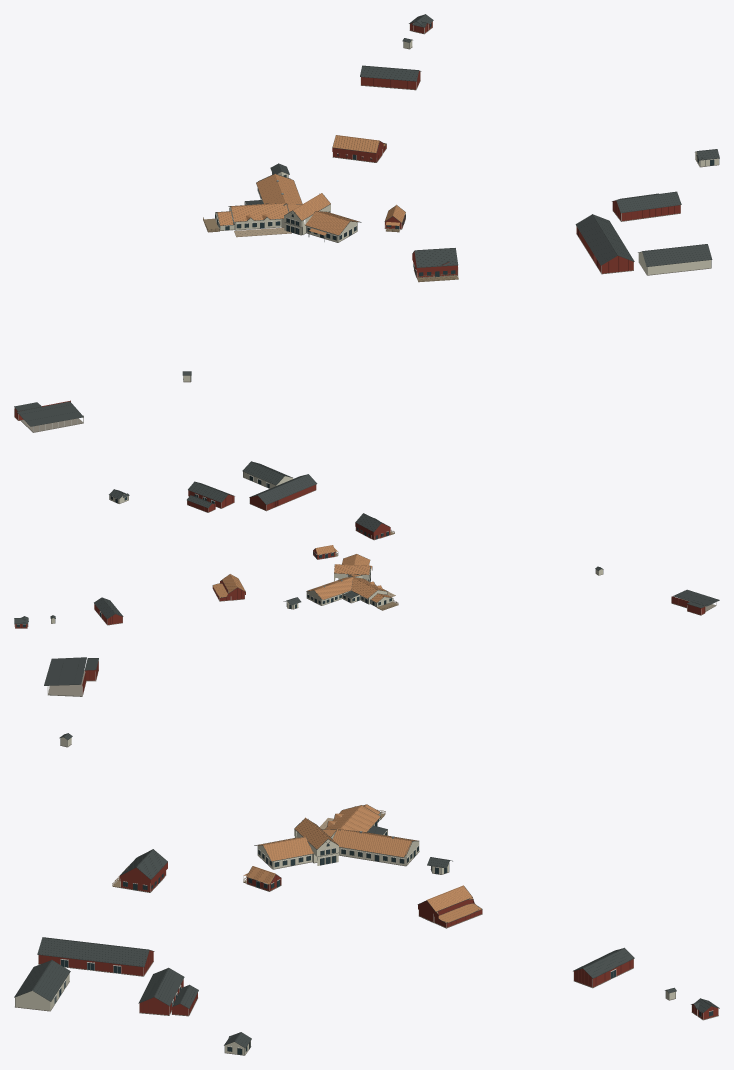
The model's file is upsala-facilities.glb.
The picture shows the model from 3 angles, top to bottom: view 1: azimuth 30°, elevation 25°; view 2: azimuth 150°, elevation 25°; view 3: azimuth 270°, elevation 25°; orthographic projection. The views are drawn at different scales.
Visible parts, largest first — view 1: upsala-service-long | B10-estimated-gable roof.002, upsala-service-light | B11-estimated-gable roof.002, upsala-clubhouse | clubhouse-north-wing roof.002, upsala-range-shelter | B08-main-monopitch roof.001, upsala-service-red | B12-estimated-gable roof.002, upsala-clubhouse | clubhouse-west-terrace-wing roof.002, upsala-practice-building | B06-main-gable roof.002, upsala-clubhouse | clubhouse walls.002, upsala-clubhouse | clubhouse-south-wing roof.002, upsala-service-light | B11 walls.002; view 2: upsala-service-long | B10-estimated-gable roof.002, upsala-service-light | B11-estimated-gable roof.002, upsala-clubhouse | clubhouse-north-wing roof.002, upsala-service-long | B10 walls.002, upsala-service-red | B12-estimated-gable roof.002, upsala-clubhouse | clubhouse walls.002, upsala-clubhouse | clubhouse-west-terrace-wing roof.002, upsala-range-shelter | B08-main-monopitch roof.001, upsala-clubhouse | clubhouse-central-raised-gable roof.002, upsala-north-barn | B16-estimated-gable roof.002; view 3: upsala-service-long | B10-estimated-gable roof.002, upsala-clubhouse | clubhouse-north-wing roof.002, upsala-service-light | B11-estimated-gable roof.002, upsala-clubhouse | clubhouse walls.002, upsala-range-shelter | B08-main-monopitch roof.001, upsala-service-red | B12-estimated-gable roof.002, upsala-service-long | B10 walls.002, upsala-clubhouse | clubhouse-west-terrace-wing roof.002, upsala-clubhouse | clubhouse-south-wing roof.002, upsala-north-barn | B16-estimated-gable roof.002, upsala-practice-building | B06-main-gable roof.002, upsala-service-light | B11 walls.002.
Boxes of the visible parts, x1,y1,x2,y2 form: upsala-service-long | B10-estimated-gable roof.002: (576, 214, 633, 264); upsala-service-light | B11-estimated-gable roof.002: (642, 244, 711, 266); upsala-clubhouse | clubhouse-north-wing roof.002: (256, 174, 302, 204); upsala-range-shelter | B08-main-monopitch roof.001: (17, 401, 82, 426); upsala-service-red | B12-estimated-gable roof.002: (616, 192, 681, 212); upsala-clubhouse | clubhouse-west-terrace-wing roof.002: (231, 203, 288, 221); upsala-practice-building | B06-main-gable roof.002: (414, 248, 457, 267); upsala-clubhouse | clubhouse walls.002: (229, 190, 357, 242); upsala-clubhouse | clubhouse-south-wing roof.002: (305, 211, 356, 235); upsala-service-light | B11 walls.002: (638, 252, 711, 274); upsala-service-long | B10-estimated-gable roof.002: (251, 474, 316, 504); upsala-service-light | B11-estimated-gable roof.002: (243, 461, 291, 484); upsala-clubhouse | clubhouse-north-wing roof.002: (307, 577, 354, 599); upsala-service-long | B10 walls.002: (249, 484, 316, 510); upsala-service-red | B12-estimated-gable roof.002: (188, 482, 230, 502); upsala-clubhouse | clubhouse walls.002: (306, 578, 386, 605); upsala-clubhouse | clubhouse-west-terrace-wing roof.002: (351, 577, 385, 598); upsala-range-shelter | B08-main-monopitch roof.001: (674, 590, 719, 605); upsala-clubhouse | clubhouse-central-raised-gable roof.002: (334, 564, 369, 574); upsala-north-barn | B16-estimated-gable roof.002: (94, 597, 122, 618); upsala-service-long | B10-estimated-gable roof.002: (38, 938, 148, 966); upsala-clubhouse | clubhouse-north-wing roof.002: (333, 829, 411, 857); upsala-service-light | B11-estimated-gable roof.002: (15, 960, 69, 1001); upsala-clubhouse | clubhouse walls.002: (258, 821, 419, 868); upsala-range-shelter | B08-main-monopitch roof.001: (44, 657, 86, 685); upsala-service-red | B12-estimated-gable roof.002: (139, 968, 183, 1005); upsala-service-long | B10 walls.002: (38, 950, 153, 975); upsala-clubhouse | clubhouse-west-terrace-wing roof.002: (325, 805, 380, 831); upsala-clubhouse | clubhouse-south-wing roof.002: (263, 837, 313, 861); upsala-north-barn | B16-estimated-gable roof.002: (575, 948, 634, 978); upsala-practice-building | B06-main-gable roof.002: (121, 849, 167, 878); upsala-service-light | B11 walls.002: (15, 973, 69, 1010).
Bounding box in the file's own units: 322 × 19.27 × 231.
